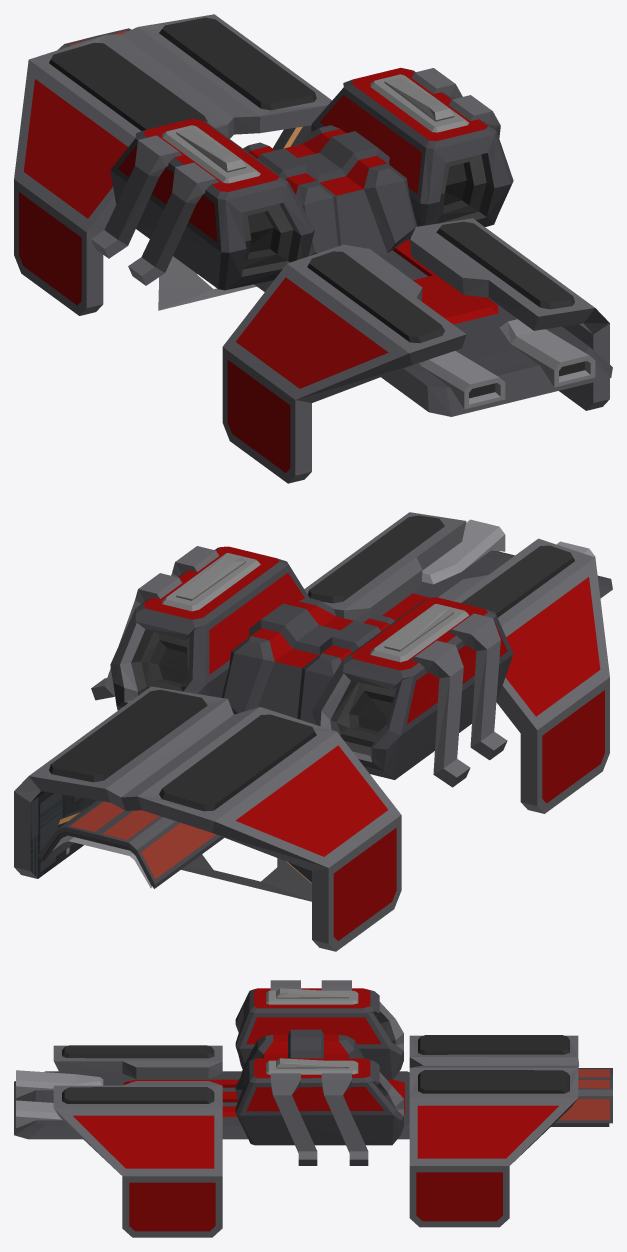
Rendered from Pirat_Spaceship_Roof.fbx.
3 views of the same model, one above another, from view 1: azimuth 30°, elevation 25°; view 2: azimuth 150°, elevation 25°; view 3: azimuth 270°, elevation 25° (orthographic). The views are drawn at different scales.
Visible parts, largest first — view 1: Pirat_spaceship_roof; view 2: Pirat_spaceship_roof, Pirate_shuttle_roof; view 3: Pirat_spaceship_roof, Pirate_shuttle_roof.
Boxes of the visible parts, x1,y1,x2,y2 form: Pirat_spaceship_roof: (14,14,612,483); Pirat_spaceship_roof: (14,512,612,951); Pirate_shuttle_roof: (38,800,224,888); Pirat_spaceship_roof: (14,980,579,1237); Pirate_shuttle_roof: (551,1068,612,1126).
Bounding box in the file's own units: 1526 × 920 × 3142.
1 material, 1 textured.
